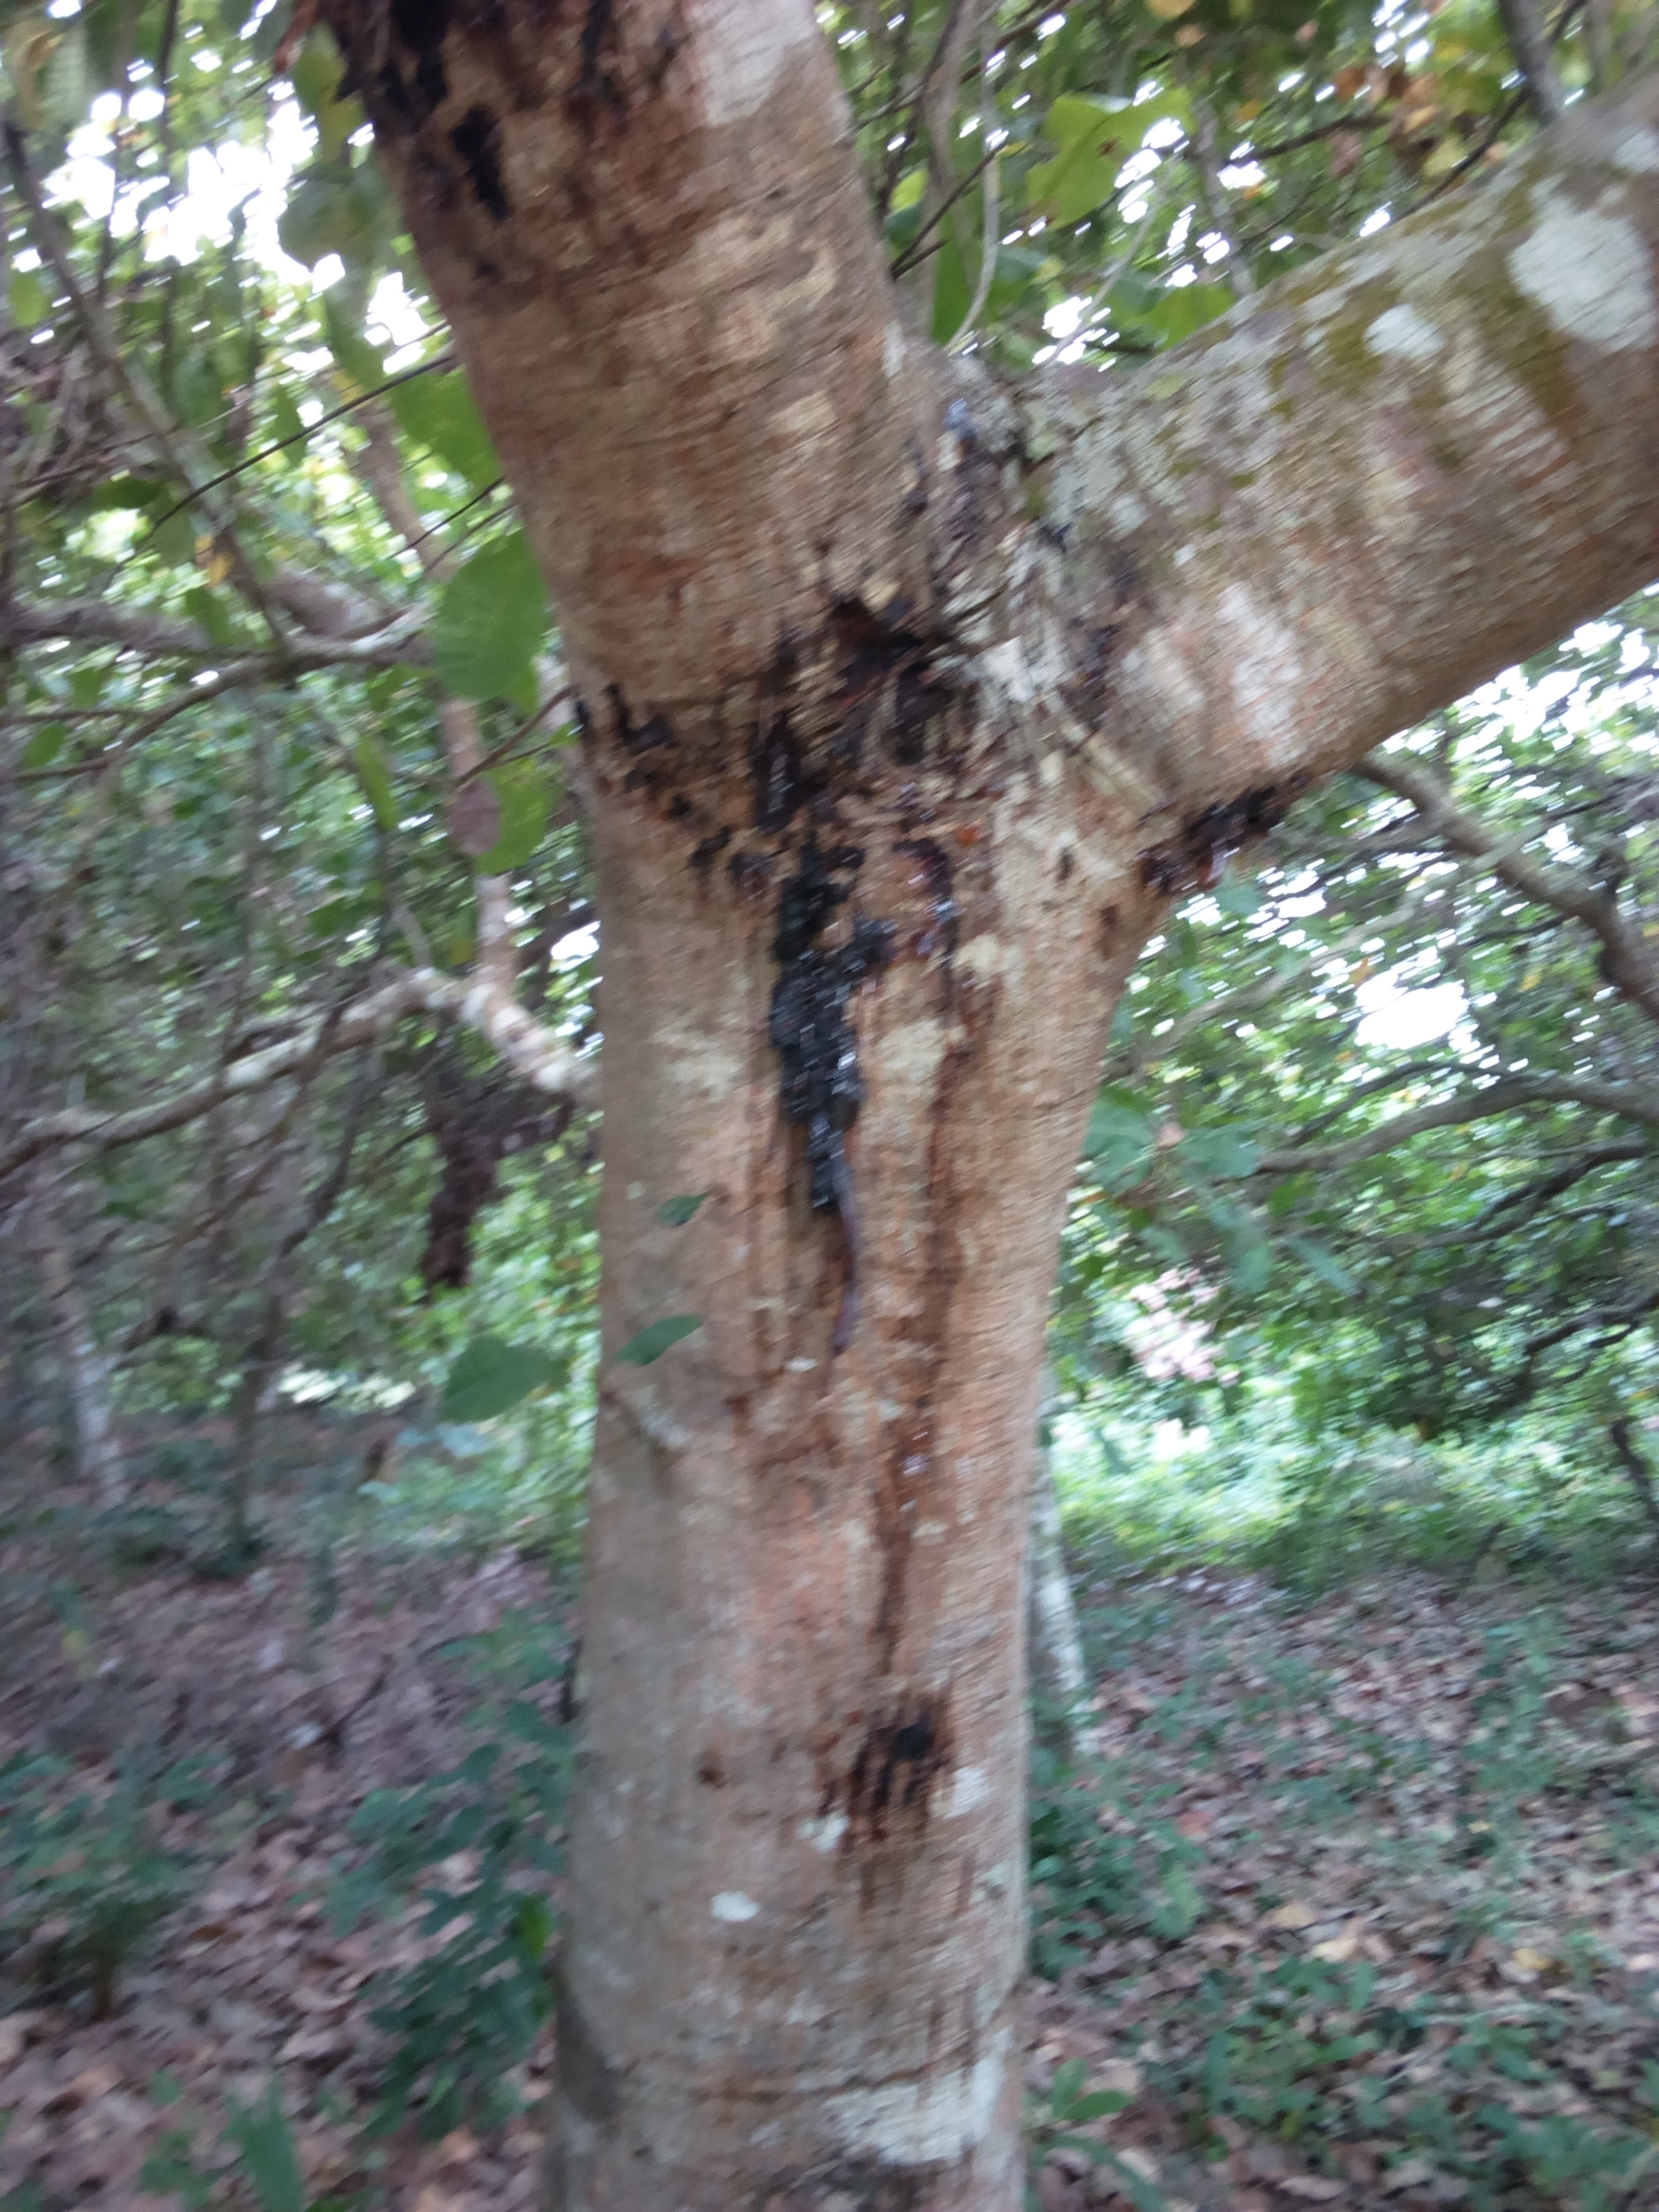Mecocorynus longiceps: (643, 665, 1009, 1353)
